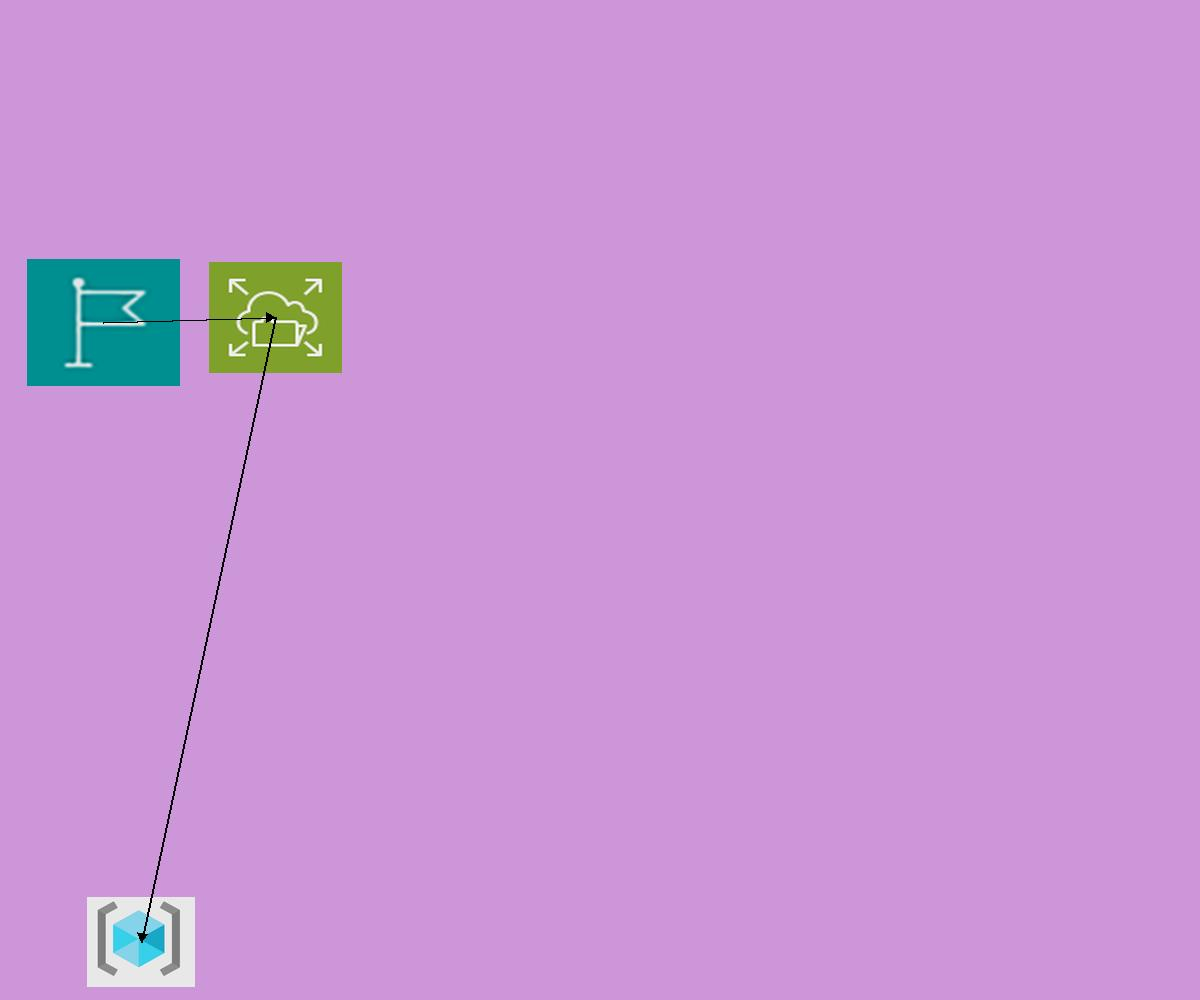AWS-EFS: (209, 262, 342, 373)
AWS-Region: (27, 259, 180, 386)
Azure_resource_group: (87, 897, 195, 987)
